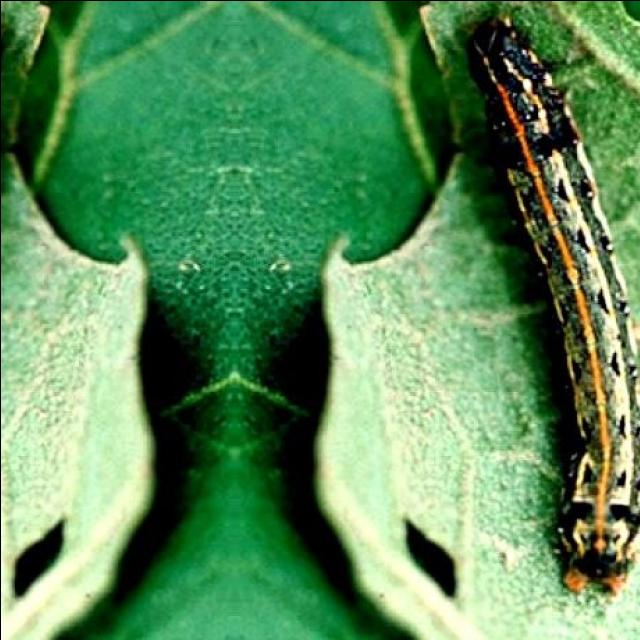Armyworm: (472, 10, 640, 602)
Armyworm_damage: (387, 514, 477, 603), (10, 494, 73, 611)
